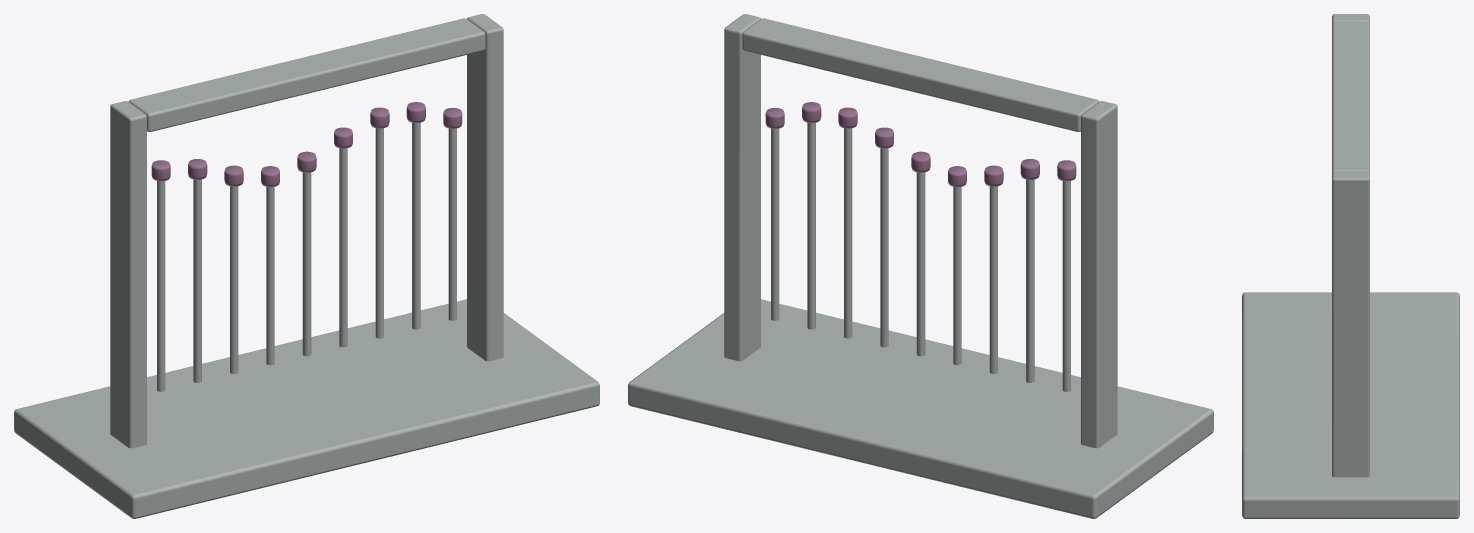
Rendered from museum-conservation-and-art-restoration-museum-conserv-8e055826__31906.glb.
3 views of the same model, side by side, from view 1: azimuth 30°, elevation 25°; view 2: azimuth 150°, elevation 25°; view 3: azimuth 270°, elevation 25° (orthographic). The views are drawn at different scales.
Visible parts, largest first — view 1: museum-conservation-and-art-restoration-adjustable-contour-c (×2); view 2: museum-conservation-and-art-restoration-adjustable-contour-c (×2); view 3: museum-conservation-and-art-restoration-adjustable-contour-c.
Boxes of the visible parts, x1,y1,x2,y2 form: museum-conservation-and-art-restoration-adjustable-contour-c (×2): (14,14,599,518); museum-conservation-and-art-restoration-adjustable-contour-c (×2): (628,14,1213,518); museum-conservation-and-art-restoration-adjustable-contour-c: (1242,14,1459,518).
Size of the model in its own units: 0.9 by 0.65 by 0.3999.
